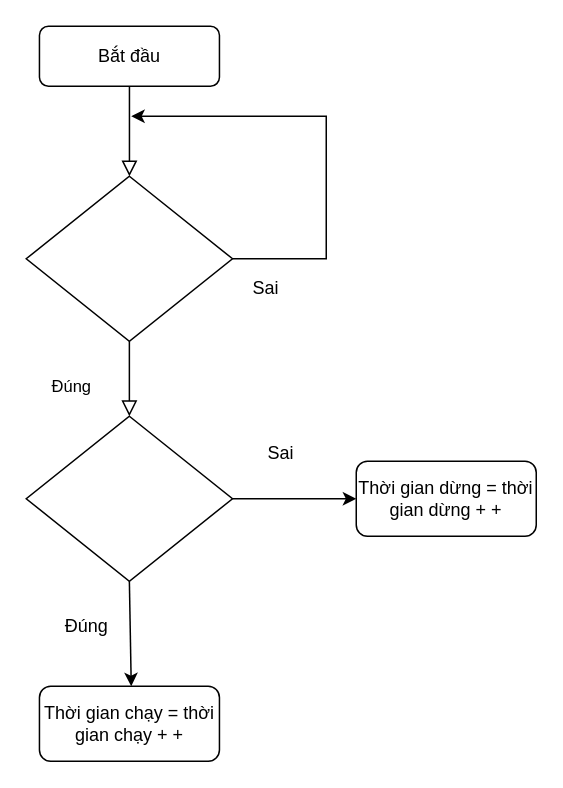
The diagram is 563 pixels wide and 788 high, and some of its shapes have lost their labels. The shapes that lost their labels are listed below. From the top down, each one's box as (x1, y1, x2, y2) in pixels, then its label:
(25, 175, 232, 341): Bật máy
(25, 415, 232, 581): Máy chạy
